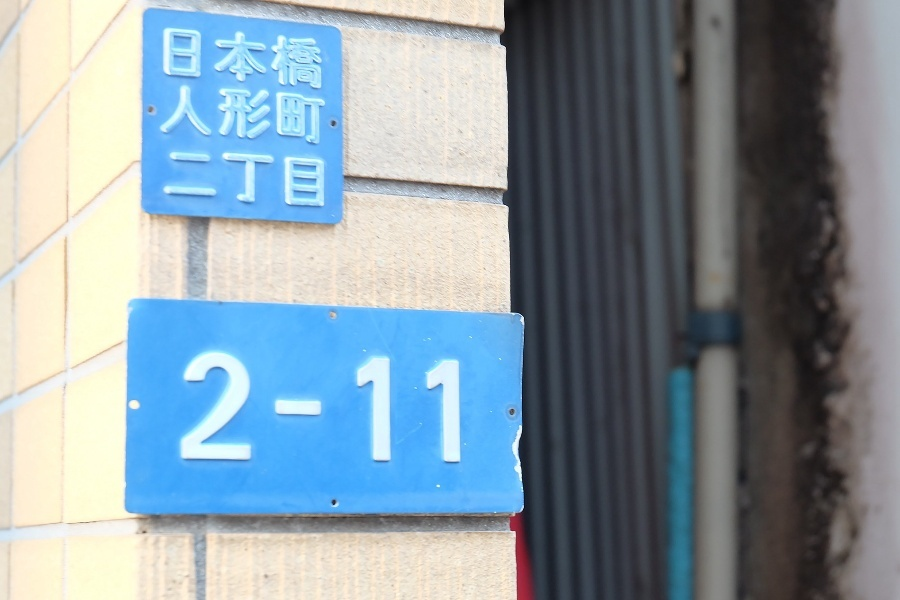text: (193, 348, 208, 464), (209, 348, 224, 464), (225, 348, 240, 464), (241, 348, 256, 464), (257, 348, 272, 464), (273, 348, 288, 464), (289, 348, 304, 464), (305, 348, 320, 464), (321, 348, 336, 464), (337, 348, 352, 464), (353, 348, 368, 464), (369, 348, 384, 464), (385, 348, 400, 464), (401, 348, 416, 464), (417, 348, 432, 464), (433, 348, 448, 464), (449, 348, 463, 464), (183, 348, 192, 464), (305, 27, 321, 89), (177, 27, 192, 89), (193, 27, 208, 89), (209, 27, 224, 89), (225, 27, 240, 89), (241, 27, 256, 89), (257, 27, 272, 89), (273, 27, 288, 89), (289, 27, 304, 89), (177, 83, 192, 145), (193, 83, 208, 145), (209, 83, 224, 145), (225, 83, 240, 145), (241, 83, 256, 145), (257, 83, 272, 145), (273, 83, 288, 145), (289, 83, 304, 145), (305, 83, 320, 145), (177, 149, 192, 208), (193, 149, 208, 208), (209, 149, 224, 208), (225, 149, 240, 208), (241, 149, 256, 208), (257, 149, 272, 208), (273, 149, 288, 208), (289, 149, 304, 208), (305, 149, 320, 208), (163, 83, 176, 145), (165, 27, 176, 89), (165, 149, 176, 208), (321, 149, 326, 208), (321, 83, 325, 145)
